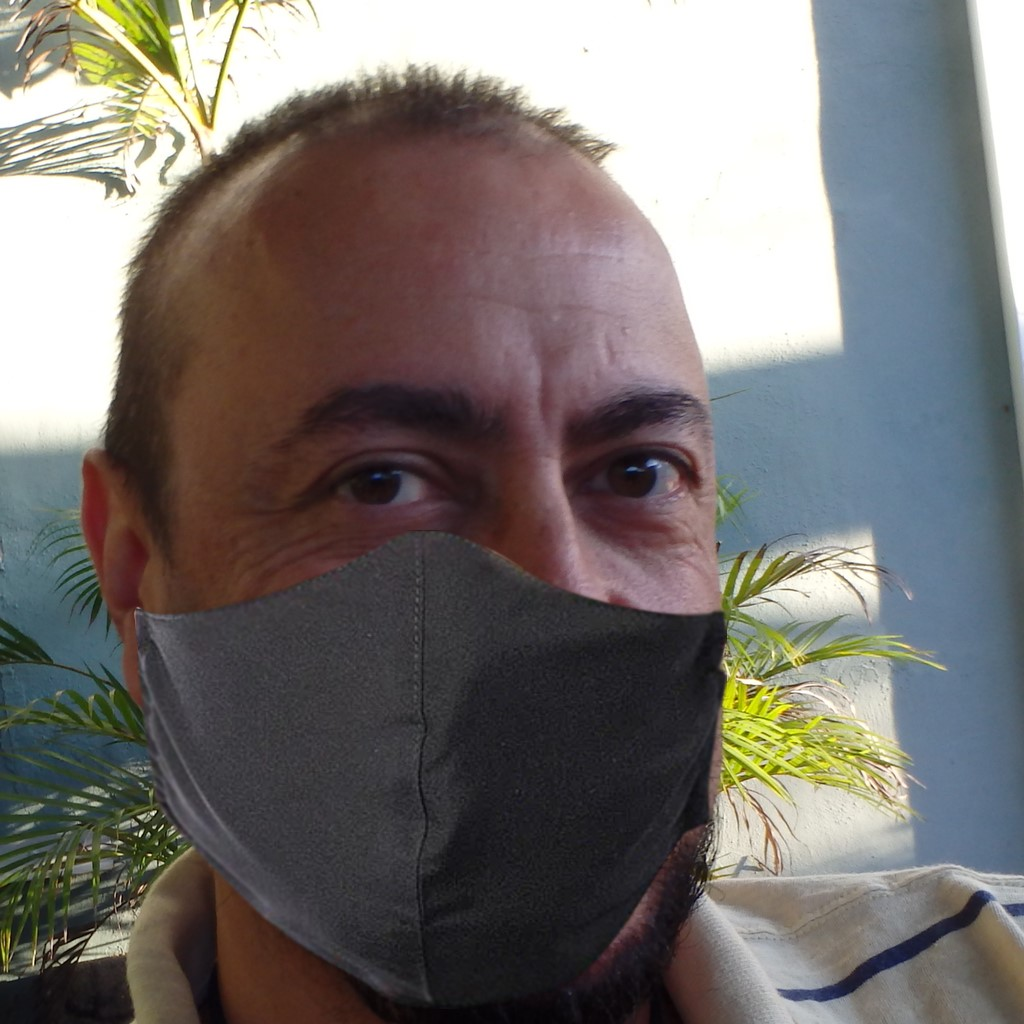con_mascara: (149, 131, 728, 990)
